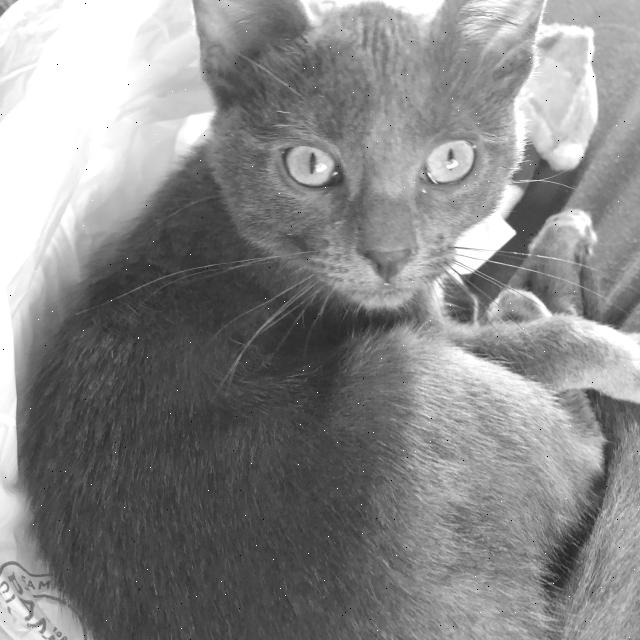russian_blue_cat: (176, 0, 580, 348)
